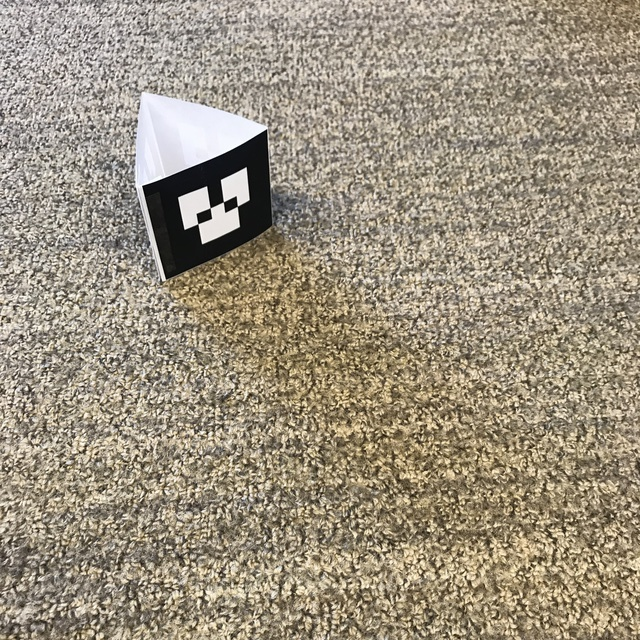ARTag: (134, 91, 273, 283)
